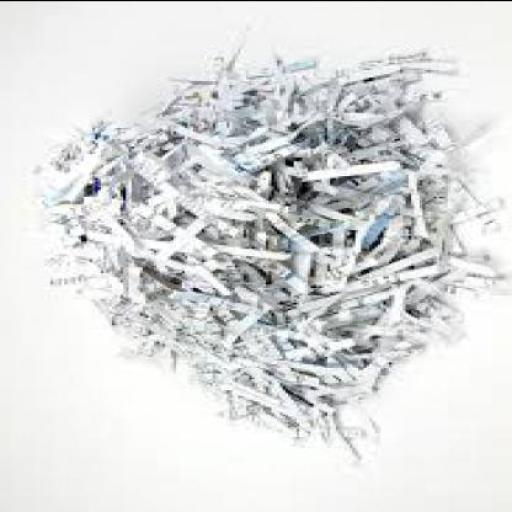paper: (24, 40, 510, 462)
